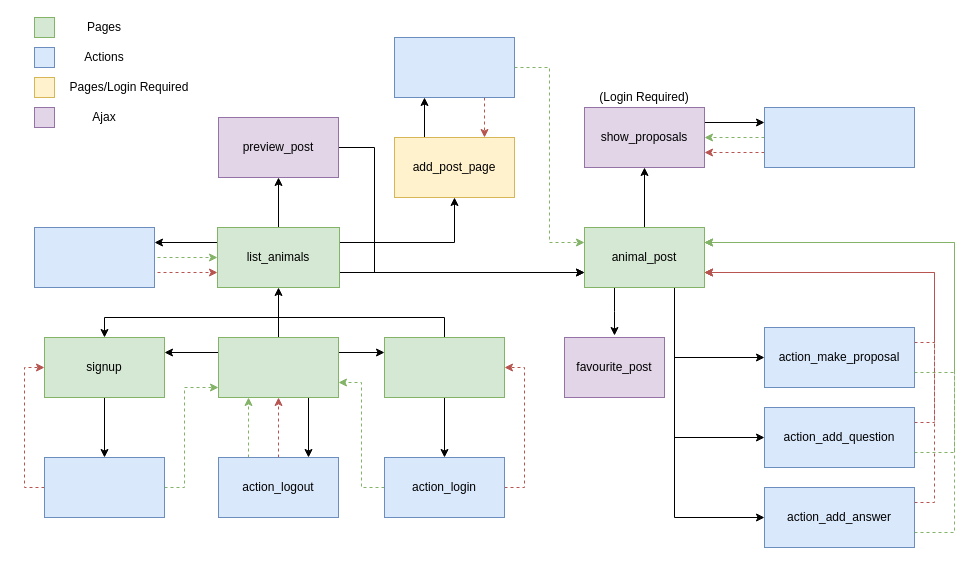
This 980x565 diagram has some shape labels left out. Here are the shapes that lost their labels. From the top down, the box of each, then its label:
(394, 36, 514, 98): action_add_post
(764, 106, 914, 168): action_answer_proposal
(34, 226, 154, 288): action_filter_animals
(218, 336, 338, 398): home_page
(384, 336, 504, 398): login
(44, 456, 164, 518): action_signup
